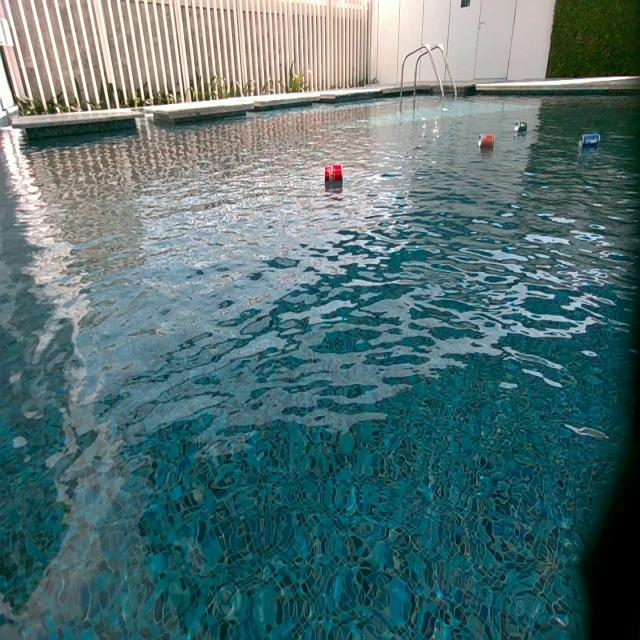Cans: (580, 133, 601, 150), (478, 133, 496, 152), (324, 165, 342, 183), (515, 120, 528, 131)
